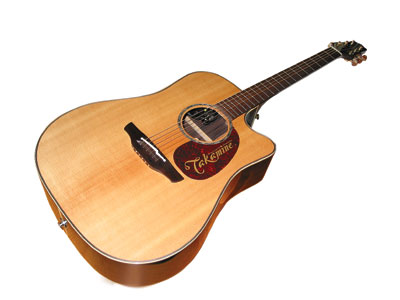guitar: (33, 41, 374, 288)
